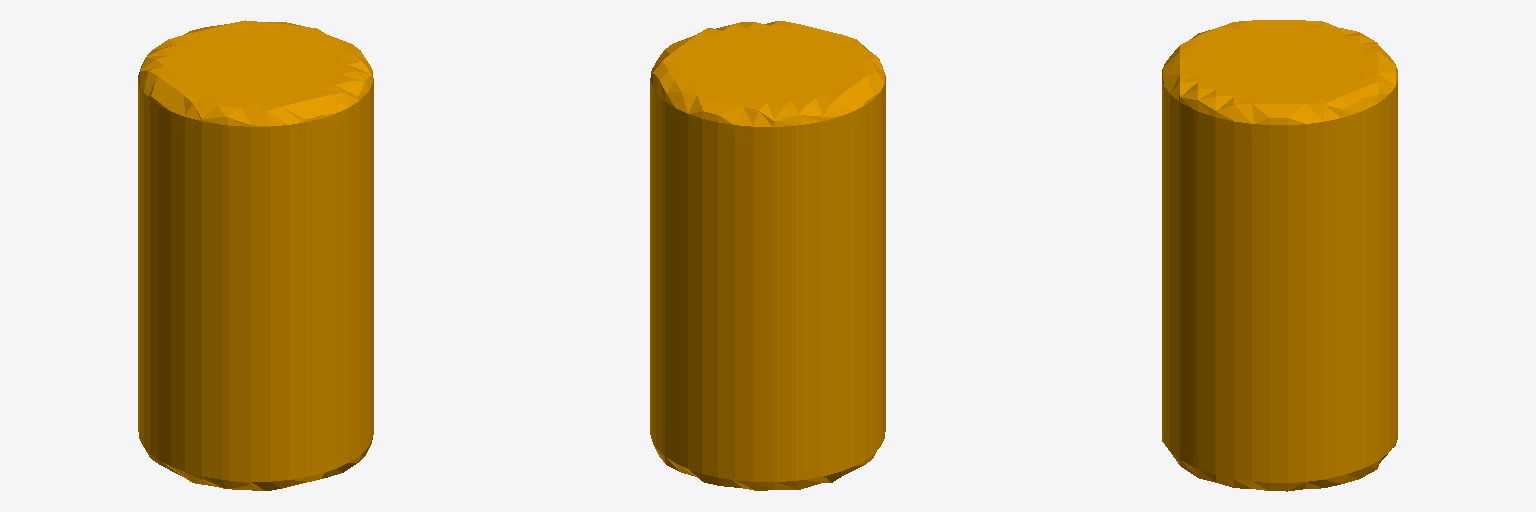
robot.urdf — cylinder_../../meshes/cylinders/cylinder_70.stl:
<?xml version="1.0" encoding="utf-8"?>  <robot name="cylinder_../../meshes/cylinders/cylinder_70.stl">   <link name="cylinder_../../meshes/cylinders/cylinder_70.stl">     <visual>       <geometry>         <mesh filename="../meshes/cylinders/cylinder_70.stl" scale="1 1 1"/>       </geometry>     </visual>     <collision>       <geometry>         <mesh filename="../meshes/cylinders/cylinder_70.stl" scale="1 1 1"/>       </geometry>     </collision>     <inertial>        <origin         xyz="0 0 0"         rpy="0 0 0" />       <mass value="0.40142783644809354"/>       <origin rpy="0 0 0" xyz="0 0 0"/>       <inertia ixx="0.0005711159828626309" ixy="-2.2144218426030285e-08" ixz="1.6717938322550253e-08" iyy="0.0005711160632054437" iyz="1.7448936376926756e-08" izz="0.00021685103970862476"/>     </inertial>   </link>  </robot>

--- Render facts (derived) ---
The picture shows the robot from 3 angles, left to right: view 1: azimuth 30°, elevation 25°; view 2: azimuth 150°, elevation 25°; view 3: azimuth 270°, elevation 25°; orthographic projection.
Model cylinder_../../meshes/cylinders/cylinder_70.stl with 1 links and 0 joints (none), rooted at cylinder_../../meshes/cylinders/cylinder_70.stl, posed all joints at 0.
Visible links, largest first — view 1: cylinder_../../meshes/cylinders/cylinder_70.stl; view 2: cylinder_../../meshes/cylinders/cylinder_70.stl; view 3: cylinder_../../meshes/cylinders/cylinder_70.stl.
Boxes of the visible links, x1=… form: cylinder_../../meshes/cylinders/cylinder_70.stl: x1=138, y1=20, x2=373, y2=490; cylinder_../../meshes/cylinders/cylinder_70.stl: x1=650, y1=21, x2=885, y2=490; cylinder_../../meshes/cylinders/cylinder_70.stl: x1=1162, y1=20, x2=1397, y2=491.
Bounding box of the posed robot: 0.0659 × 0.0659 × 0.1184 m (x, y, z).
1 mesh visuals loaded from 1 distinct referenced files (1 binary STL).